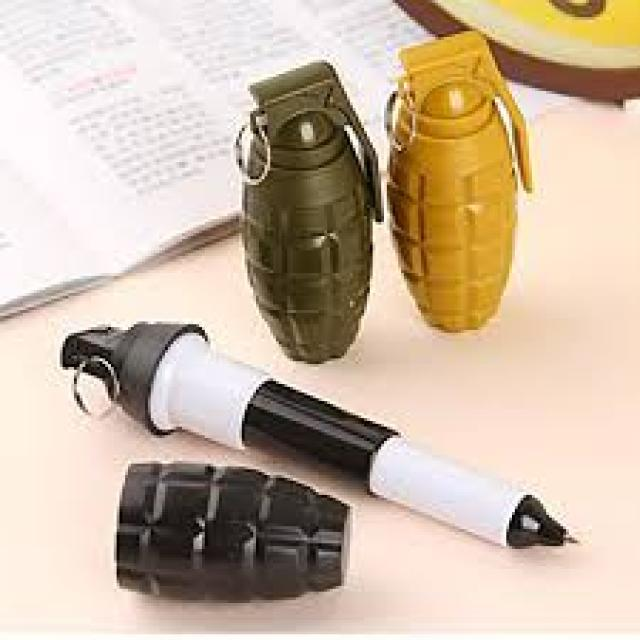grenade: (379, 34, 541, 346), (231, 51, 389, 369)
